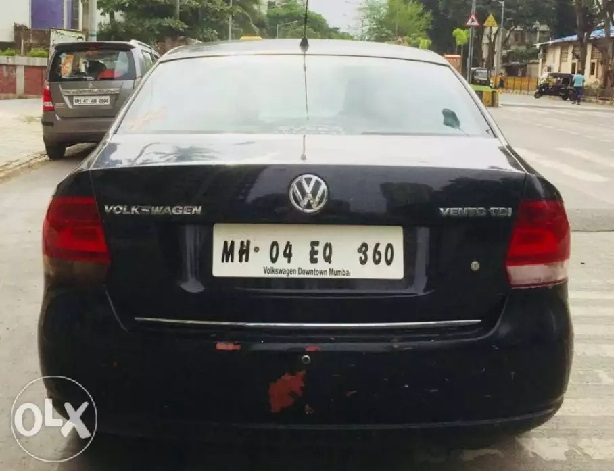licenseplate: (210, 218, 409, 281)
